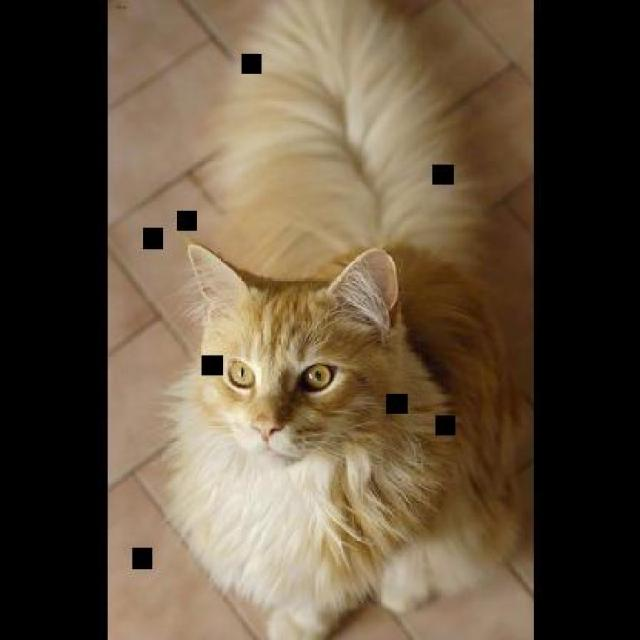unauthorized: (153, 0, 532, 638)
